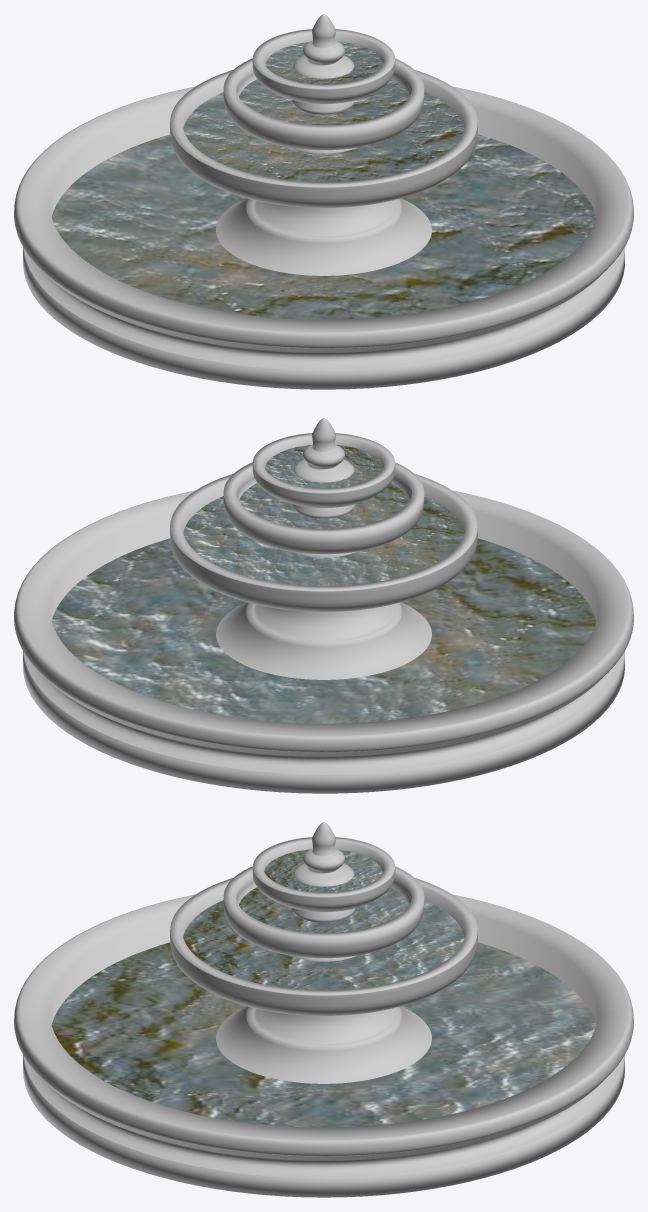
File: fuente.obj
The picture shows the model from 3 angles, top to bottom: view 1: azimuth 30°, elevation 25°; view 2: azimuth 150°, elevation 25°; view 3: azimuth 270°, elevation 25°; orthographic projection.
Visible parts, largest first — view 1: Line002, Donut001, Donut002, Donut003, Donut004; view 2: Line002, Donut001, Donut002, Donut003, Donut004; view 3: Line002, Donut001, Donut002, Donut003, Donut004.
Part boxes in pixels (x1,y1,x2,y2): Line002: [14, 14, 633, 389]; Donut001: [51, 134, 596, 319]; Donut002: [183, 92, 464, 182]; Donut003: [239, 79, 408, 124]; Donut004: [265, 41, 383, 84]; Line002: [14, 418, 633, 793]; Donut001: [51, 538, 596, 723]; Donut002: [183, 496, 464, 586]; Donut003: [239, 483, 408, 528]; Donut004: [265, 445, 383, 488]; Line002: [14, 822, 633, 1197]; Donut001: [51, 942, 596, 1127]; Donut002: [183, 900, 464, 990]; Donut003: [239, 887, 408, 932]; Donut004: [264, 849, 382, 892].
Bounding box in the file's own units: 138 × 60.83 × 138.
